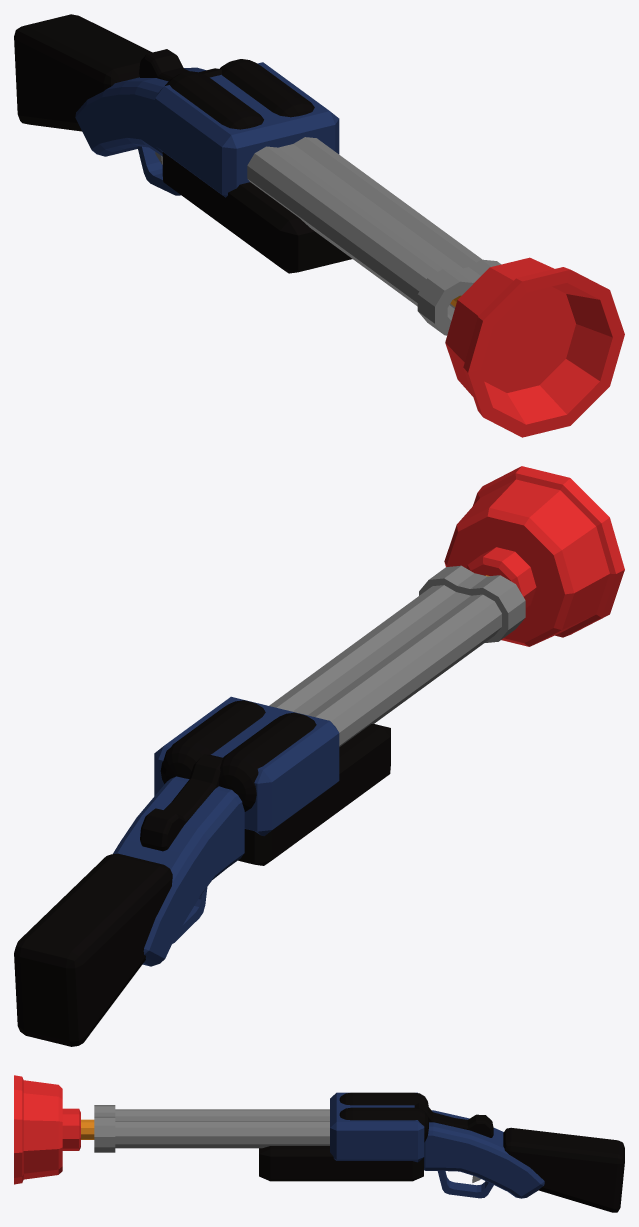
The model's file is Weapon_Shotgun_Gros_Projectile.fbx.
3 renders of one model, top to bottom at view 1: azimuth 30°, elevation 25°; view 2: azimuth 150°, elevation 25°; view 3: azimuth 270°, elevation 25°, orthographic. The views are drawn at different scales.
Visible parts, largest first — view 1: Shotgun, Module_Gros_Projectile; view 2: Shotgun, Module_Gros_Projectile; view 3: Shotgun, Module_Gros_Projectile.
Part boxes in pixels (x1,y1,x2,y2): Shotgun: (14,14,501,335); Module_Gros_Projectile: (445,257,624,437); Shotgun: (14,565,525,1046); Module_Gros_Projectile: (444,466,624,646); Shotgun: (94,1092,624,1212); Module_Gros_Projectile: (14,1075,94,1184).
Bounding box in the file's own units: 34.62 × 42.91 × 192.
